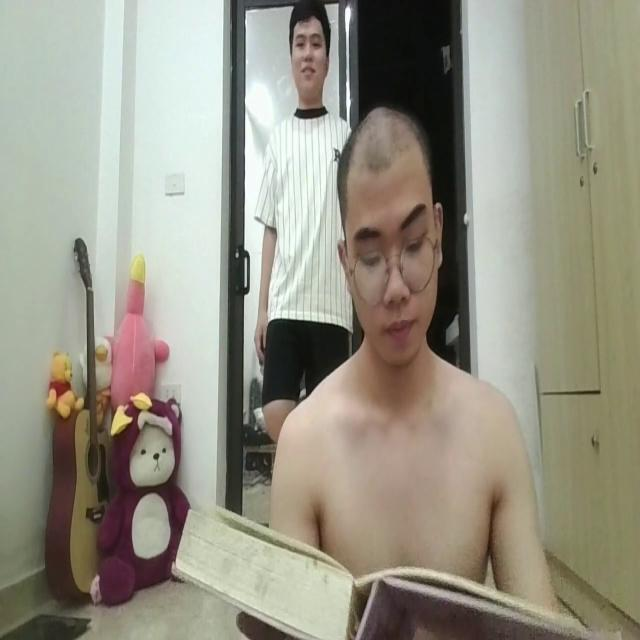book: (167, 479, 600, 640)
extra_person: (240, 0, 374, 427)
student: (266, 99, 557, 631)
